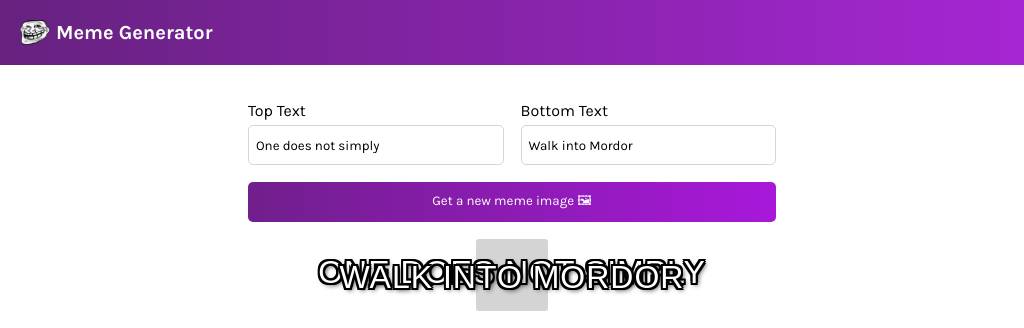
App component › updates the top text
Type "A coder does not simply" into the field labelled "Top Text". click: (376, 145)
box: x1=248 y1=125 x2=504 y2=165
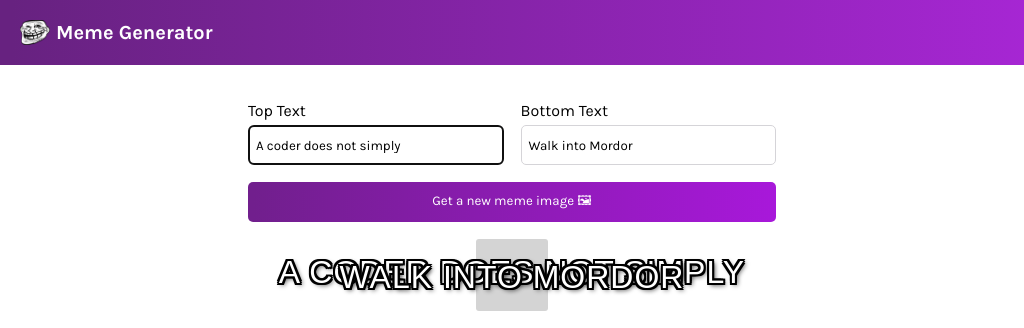
Now the text "A coder does not simply" is shown, box x1=274 y1=254 x2=750 y2=291
